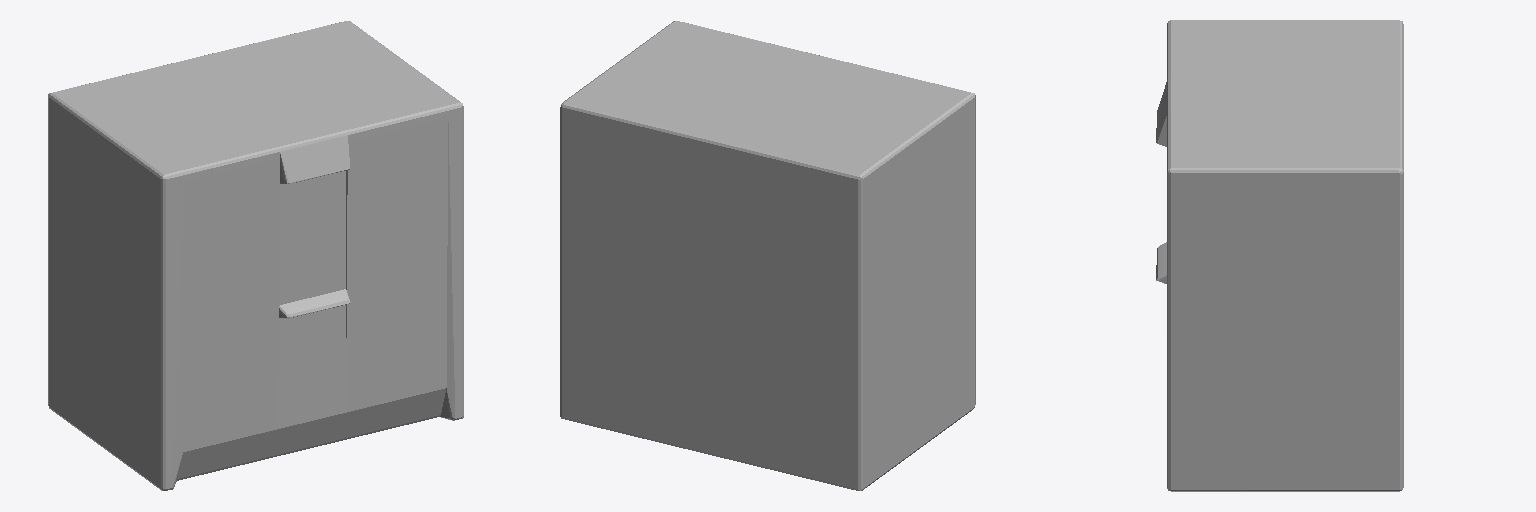
The robot description file, URDF, robot "root":
<?xml version="1.0"?>
<robot name="root">
  <link name="base_link">
    <visual>
      <origin xyz="0 0 0" rpy="0 0 0" />
      <geometry>
        <mesh filename="../meshes/unidex_sem_FileCabinet-839996ad49bfe12aaee45fb27ad3a6fe_006.obj" scale="1.0000E+00 1.0000E+00 1.0000E+00" />
      </geometry>
      <material name="">
        <color rgba="7.50E-01 7.50E-01 7.50E-01 1" />
      </material>
    </visual>
    <collision>
      <origin xyz="0 0 0" rpy="0 0 0" />
      <geometry>
        <mesh filename="../meshes/unidex_sem_FileCabinet-839996ad49bfe12aaee45fb27ad3a6fe_006.obj" scale="1.0000E+00 1.0000E+00 1.0000E+00" />
      </geometry>
    </collision>
  </link>
</robot>

--- What the picture shows (computed from the rendered views, not written in the file) ---
3 views of the same robot in one strip: view 1: azimuth 30°, elevation 25°; view 2: azimuth 150°, elevation 25°; view 3: azimuth 270°, elevation 25° (orthographic).
Model root with 1 links and 0 joints (none), rooted at base_link, posed all joints at 0.
Visible links, largest first — view 1: base_link; view 2: base_link; view 3: base_link.
Link boxes in pixels (x1,y1,x2,y2): base_link: [48, 21, 463, 490]; base_link: [560, 21, 975, 490]; base_link: [1156, 20, 1403, 491].
Size in the robot's own frame: 0.0752 by 0.0521 by 0.0752 metres.
1 mesh visuals loaded from 1 distinct referenced files (1 OBJ).
